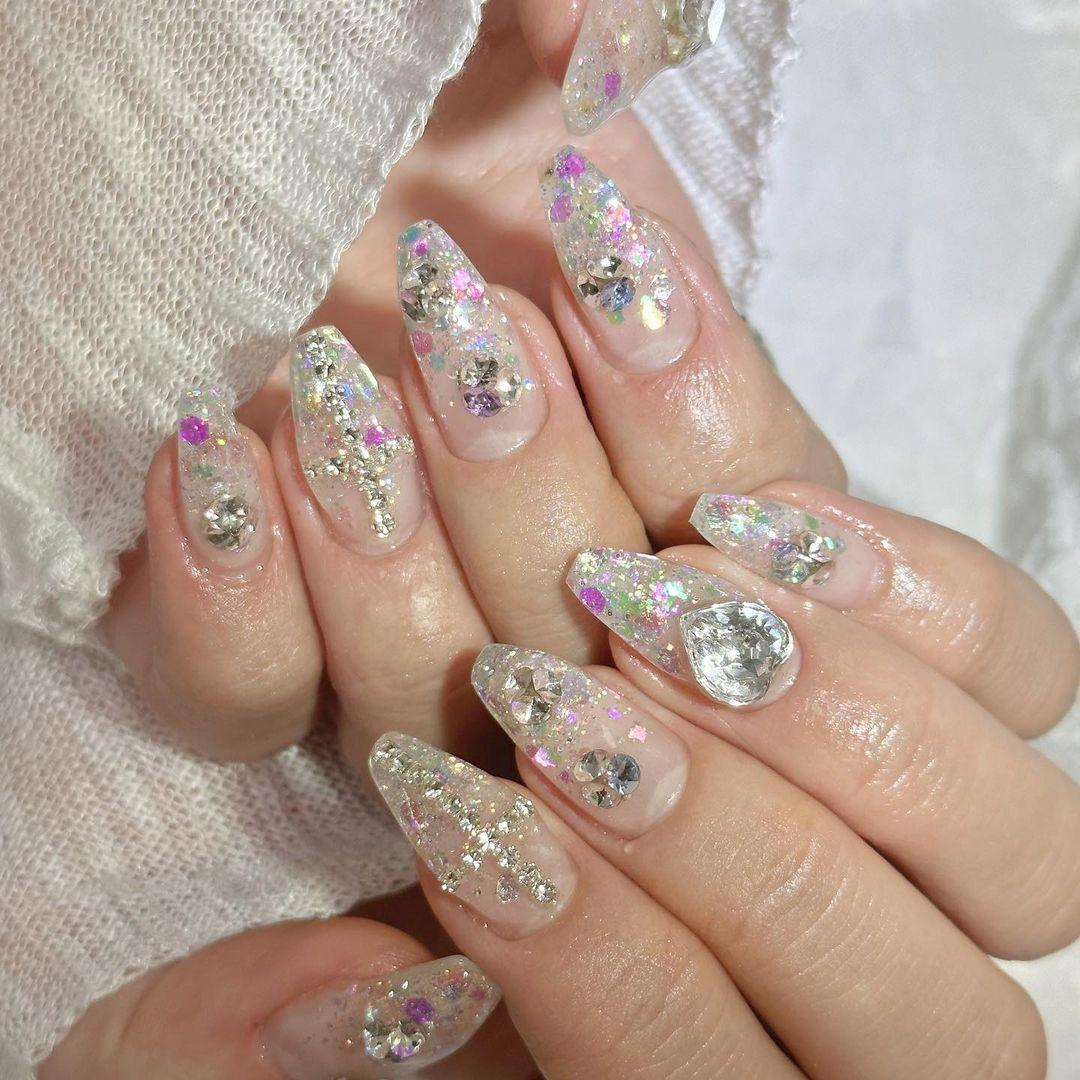nail: (366, 728, 579, 940), (468, 640, 691, 842), (565, 545, 801, 710), (394, 217, 549, 462), (538, 142, 700, 374), (288, 322, 427, 556), (261, 951, 502, 1078), (688, 489, 887, 611), (558, 0, 725, 135), (174, 383, 271, 572)
